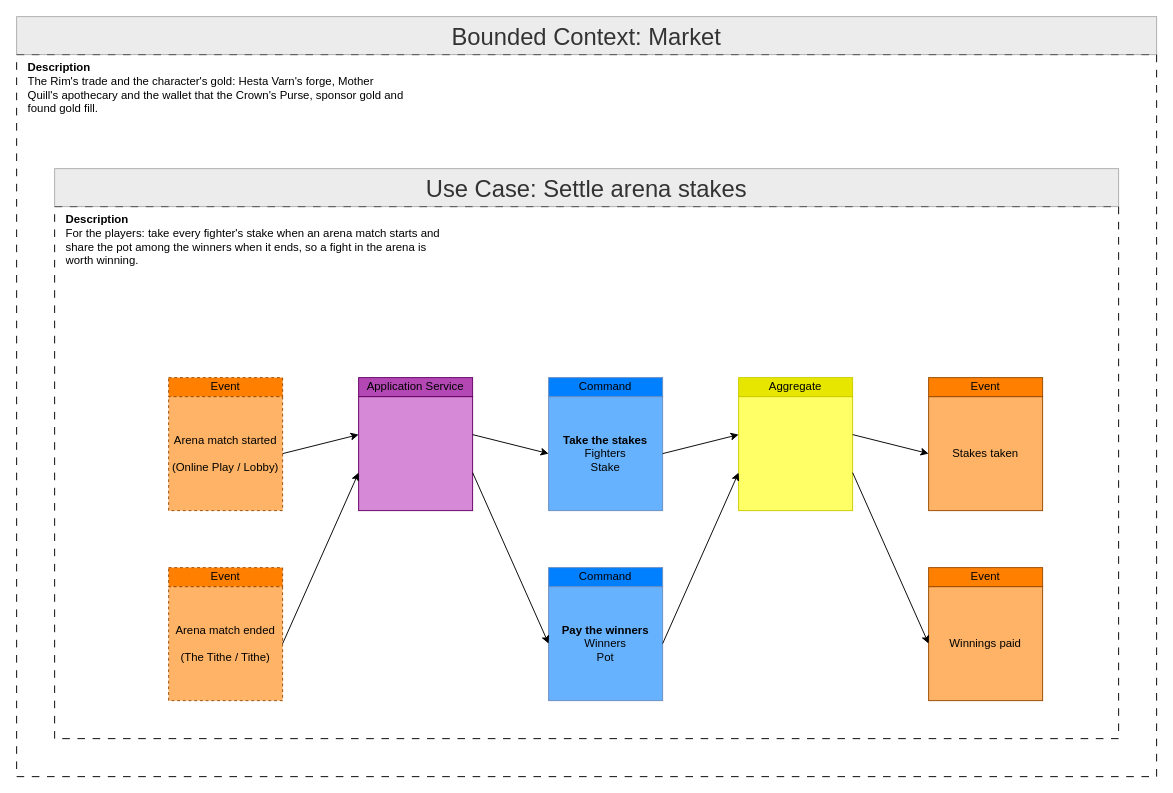
This 1173x793 diagram has some shape labels left out. The centre of each missing label's shape, as x and y in pixels:
"Arena bookkeeper" belongs at point (415, 453).
"Wallet Gold" belongs at point (795, 453).
